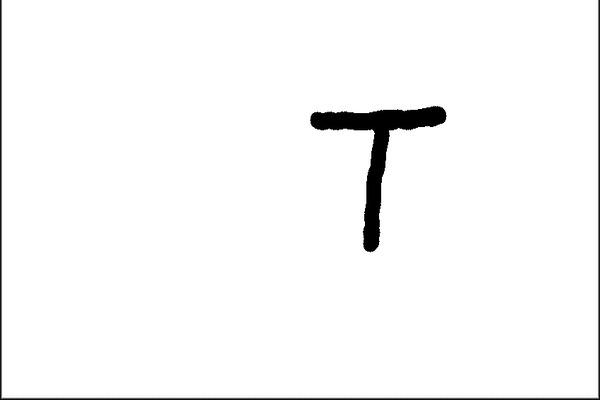T: (304, 93, 448, 253)
